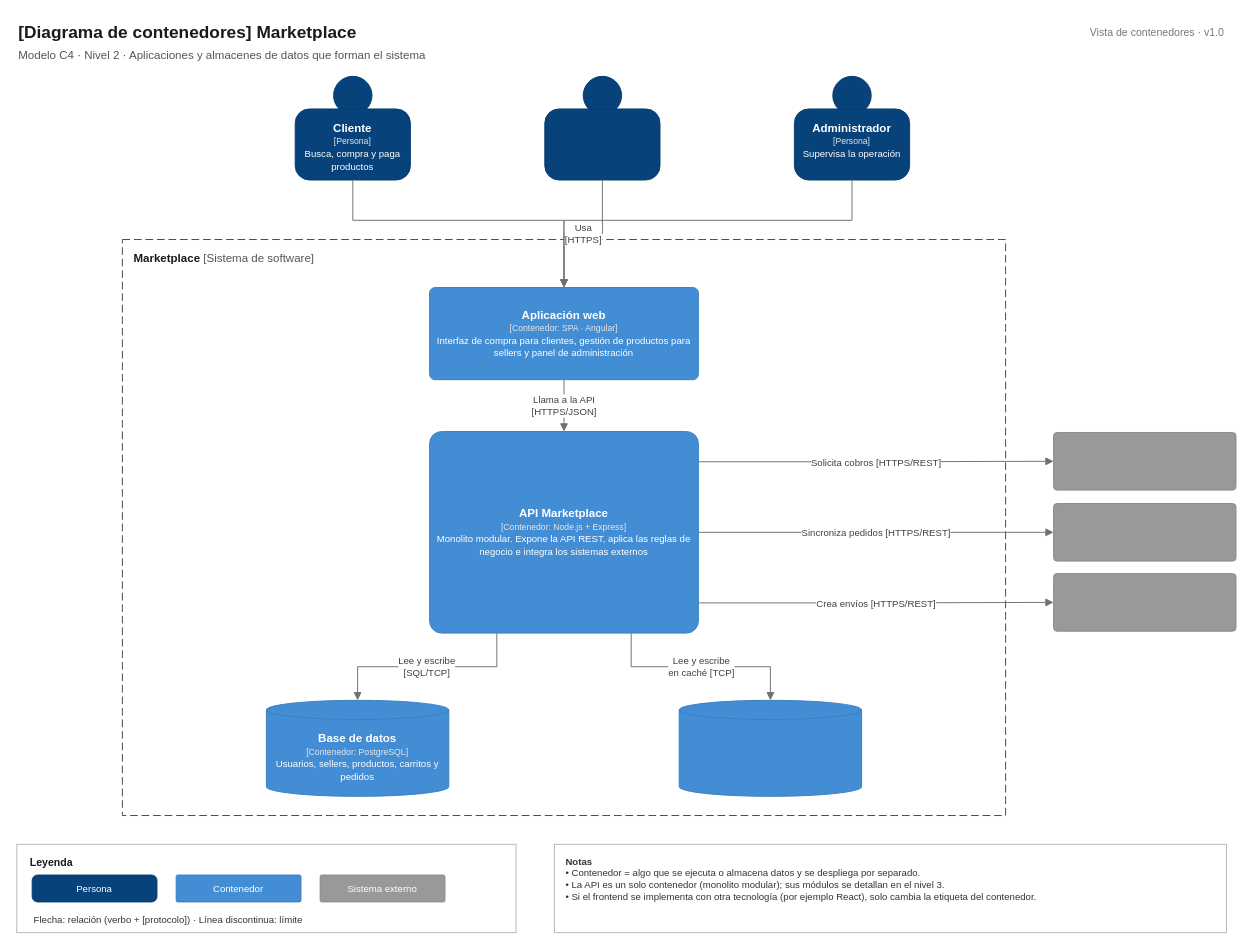
This 1253x949 diagram has some shape labels left out. The centre of each missing label's shape, as x and y in pixels:
"Caché [Contenedor: Redis] Catálogo de productos en memoria" goes at (x=770, y=747).
"ERP [Sistema externo] Gestión interna de la empresa" goes at (x=1144, y=532).
"Pasarela de pago [Sistema externo] Procesa los pagos" goes at (x=1144, y=461).
"Seller [Persona] Vende productos en el marketplace" goes at (x=602, y=144).
"Servicio de envío [Sistema externo] Gestiona las entregas" goes at (x=1144, y=602).
